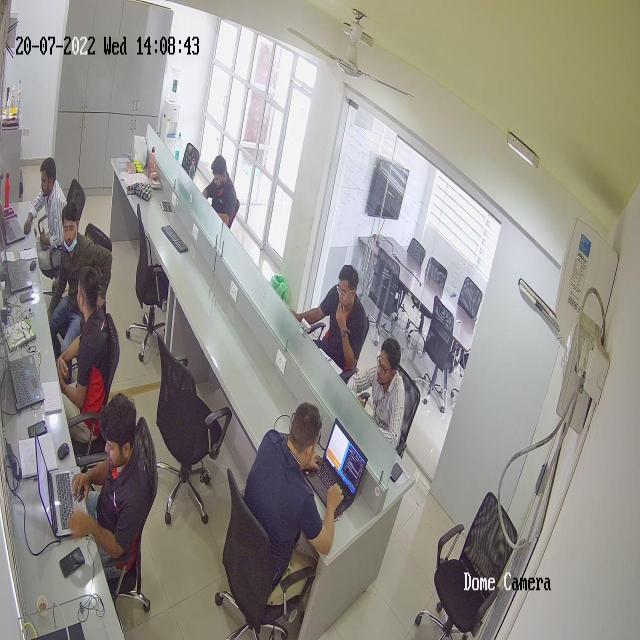chair: (414, 483, 519, 640), (152, 336, 233, 530), (213, 470, 304, 640), (126, 204, 175, 367), (416, 292, 460, 419), (362, 242, 406, 354), (62, 174, 87, 246), (454, 272, 484, 322), (422, 256, 455, 292), (180, 138, 202, 184), (401, 235, 428, 268)
keyboard: (162, 215, 192, 258)
laptop: (306, 414, 368, 517), (29, 435, 83, 539), (0, 330, 46, 412), (2, 242, 35, 290), (0, 198, 28, 244)
person: (241, 393, 336, 620), (63, 395, 152, 600), (52, 270, 116, 440), (304, 254, 368, 379), (348, 326, 408, 450), (29, 152, 68, 284), (199, 150, 240, 230)
phone: (58, 543, 89, 584), (26, 414, 50, 439), (16, 284, 37, 306)
